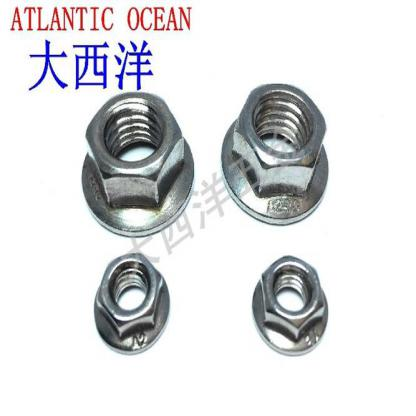FOD: (77, 87, 200, 244), (219, 80, 330, 224), (91, 248, 173, 358), (250, 254, 330, 356)
